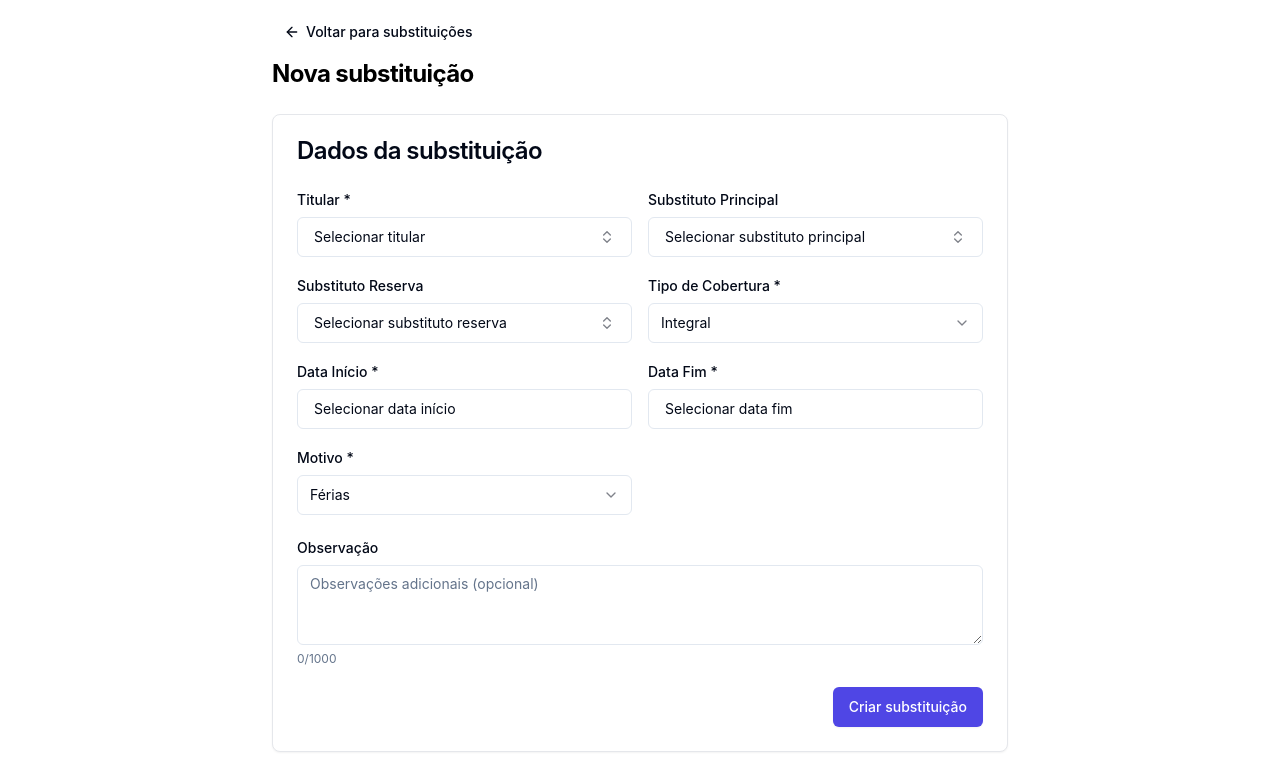
Scenario: SubstituicaoNova › invariante I3 — reserva sem principal bloqueia submit
Step 1. Click the dropdown "Selecionar substituto reserva" → click(464, 323), box [297, 303, 632, 343]
Wait 350 ms
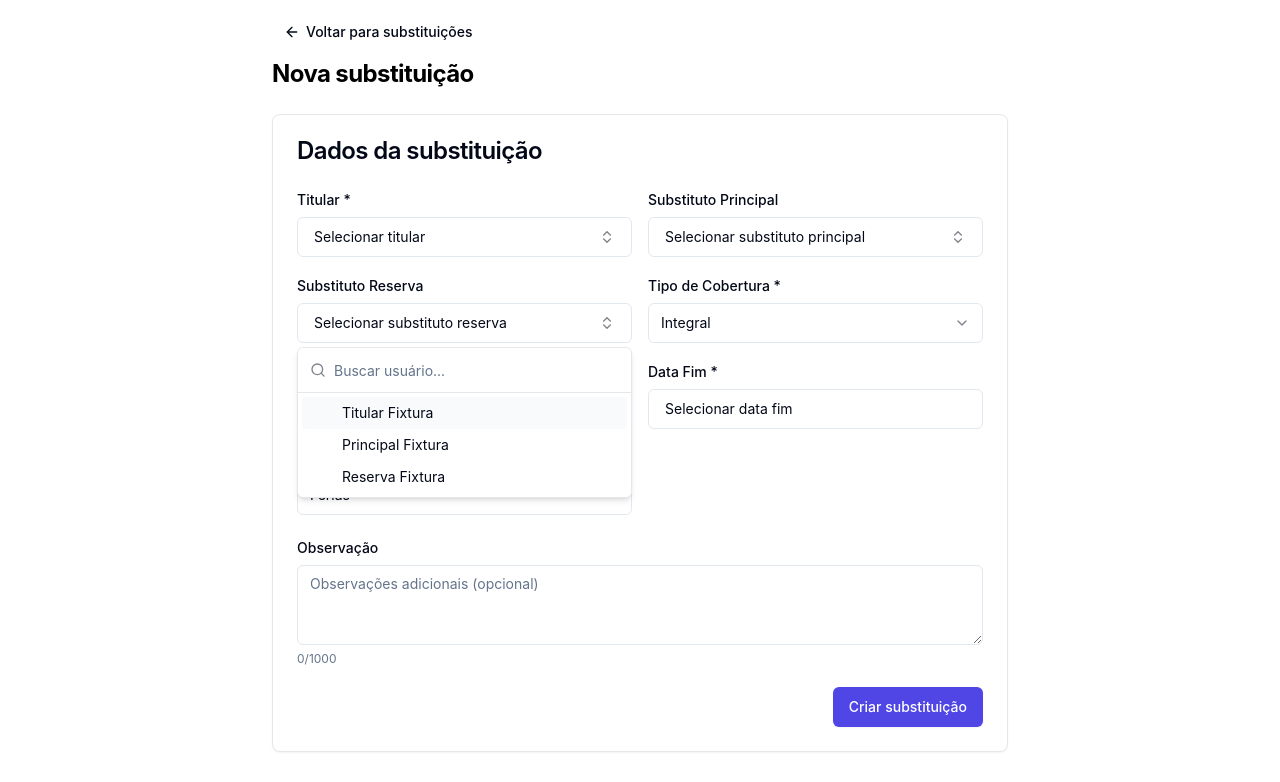
Step 2. Click the option "Reserva Fixtura" → click(394, 476), box [342, 468, 445, 485]
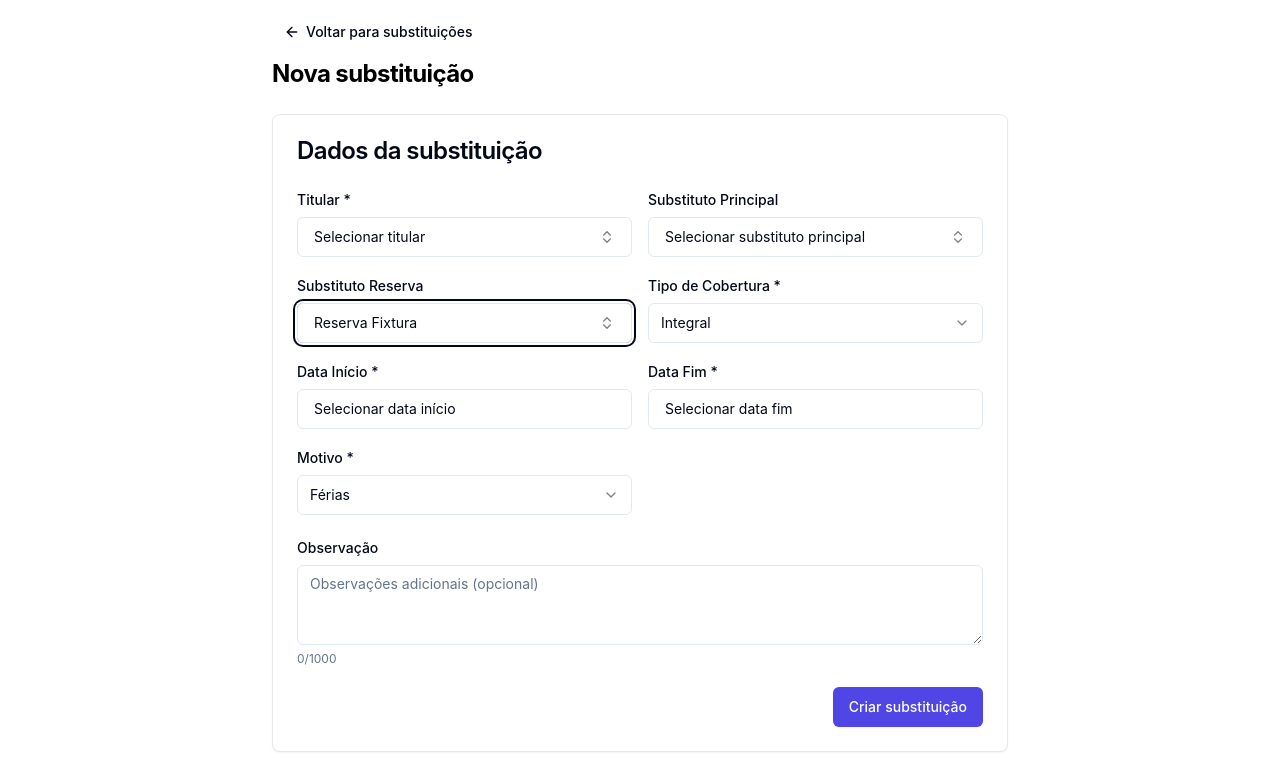
Step 3. Click the button "Criar substituição" → click(908, 707), box [833, 687, 983, 727]
(page scrolled)
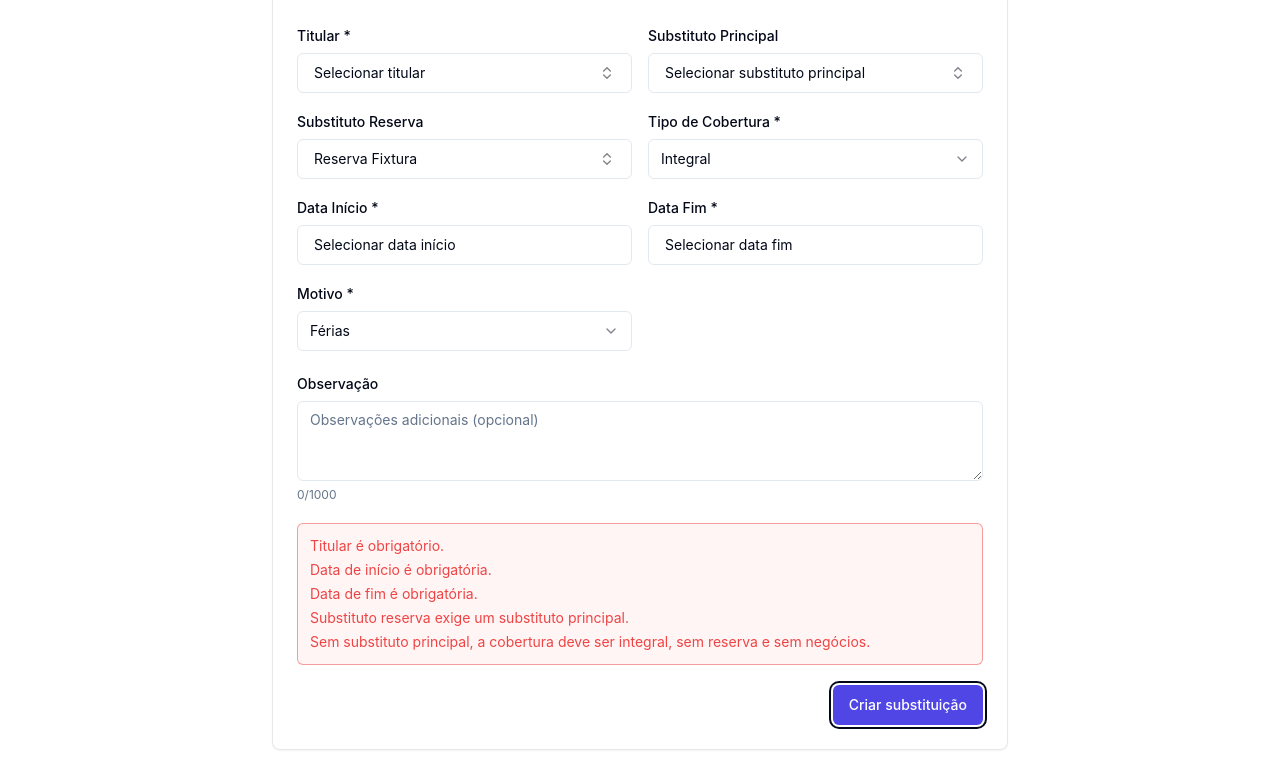
Expected: the text "Substituto reserva exige um substituto principal." is shown, [310, 609, 629, 626]
